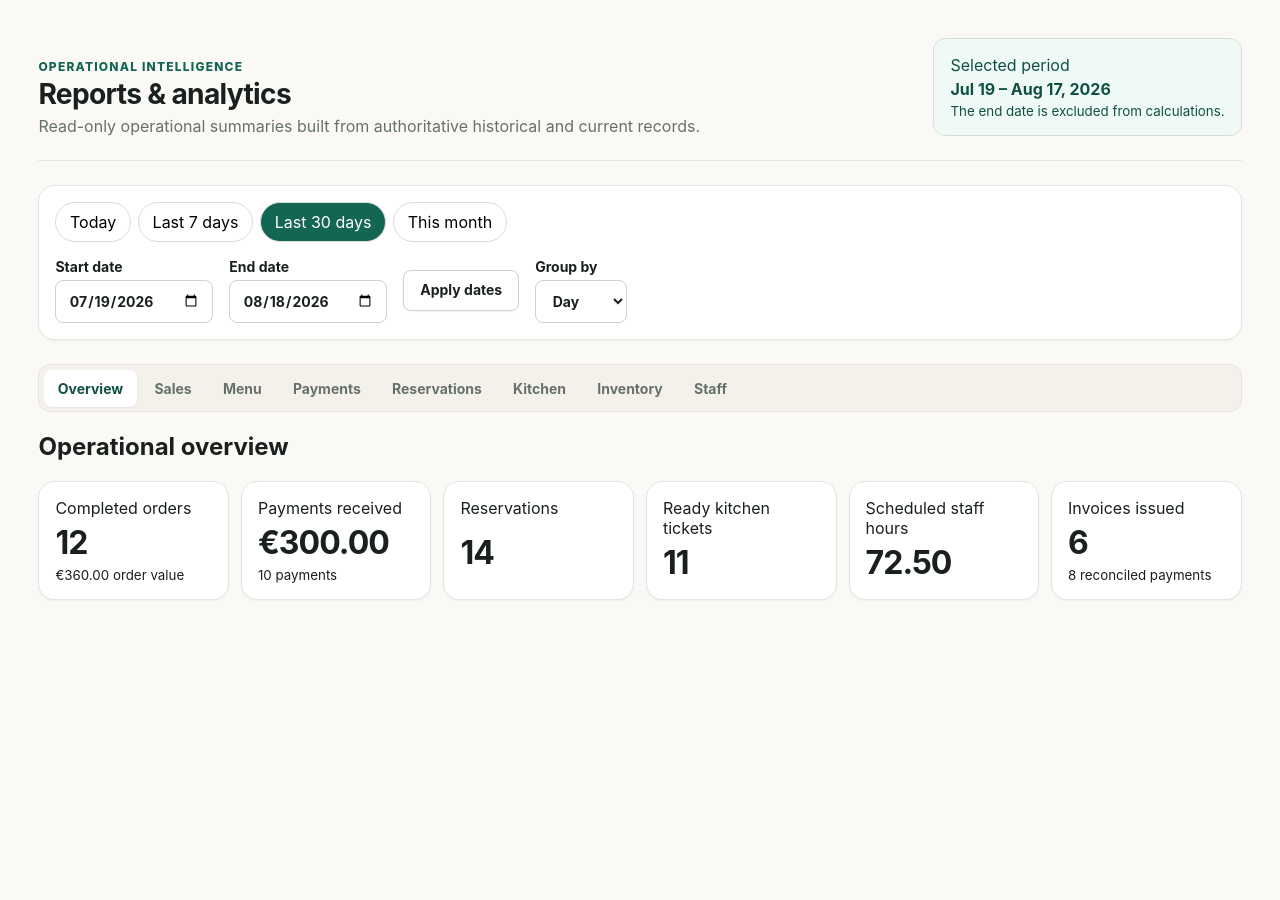
reports page › announces export failures and does not show false success
Click the tab "Sales". click: (173, 388)
box: [141, 370, 205, 407]
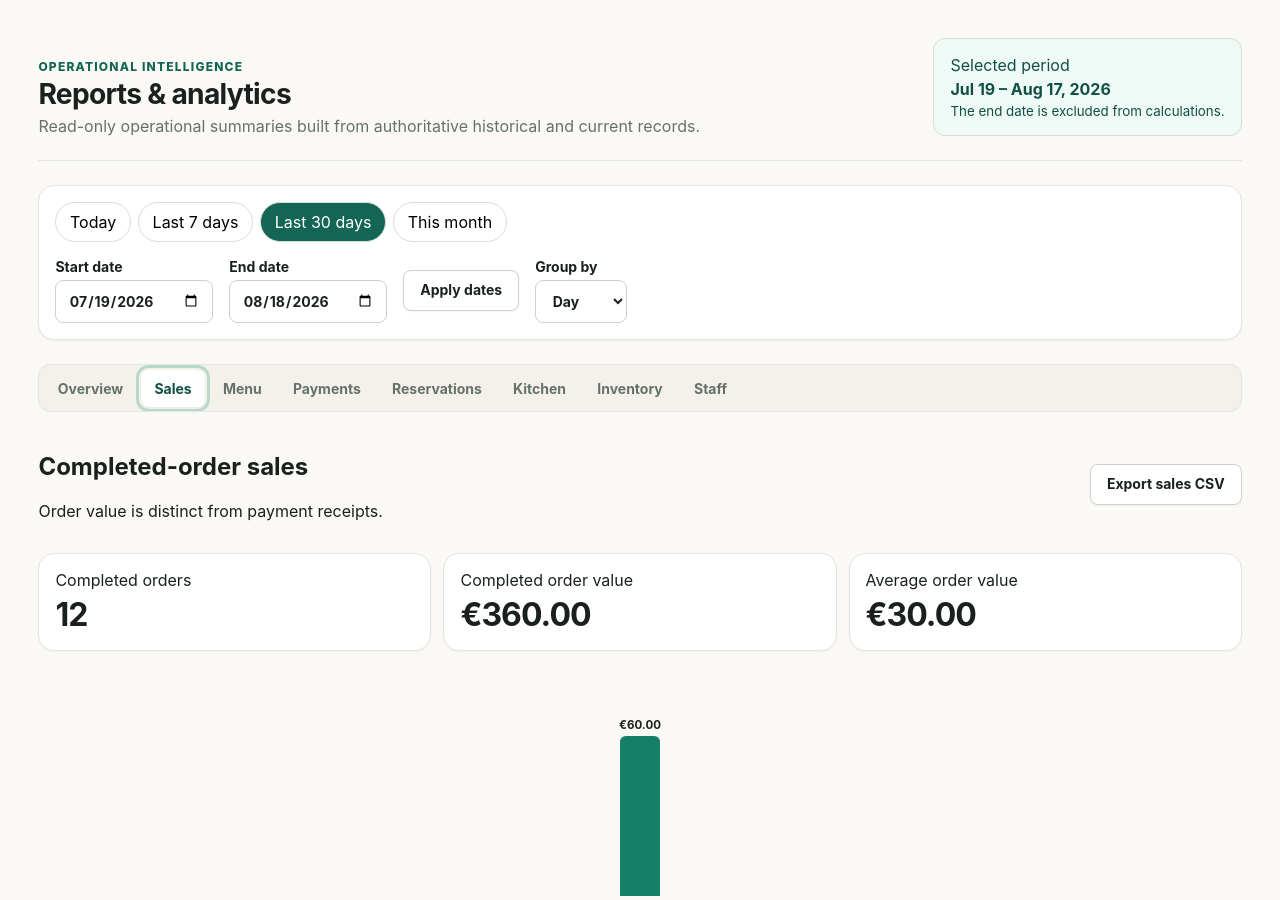
Expected: the heading "Completed-order sales" is shown, [38, 452, 308, 481]
Click the button "Export sales CSV". click: (1166, 485)
box: [1090, 464, 1242, 505]
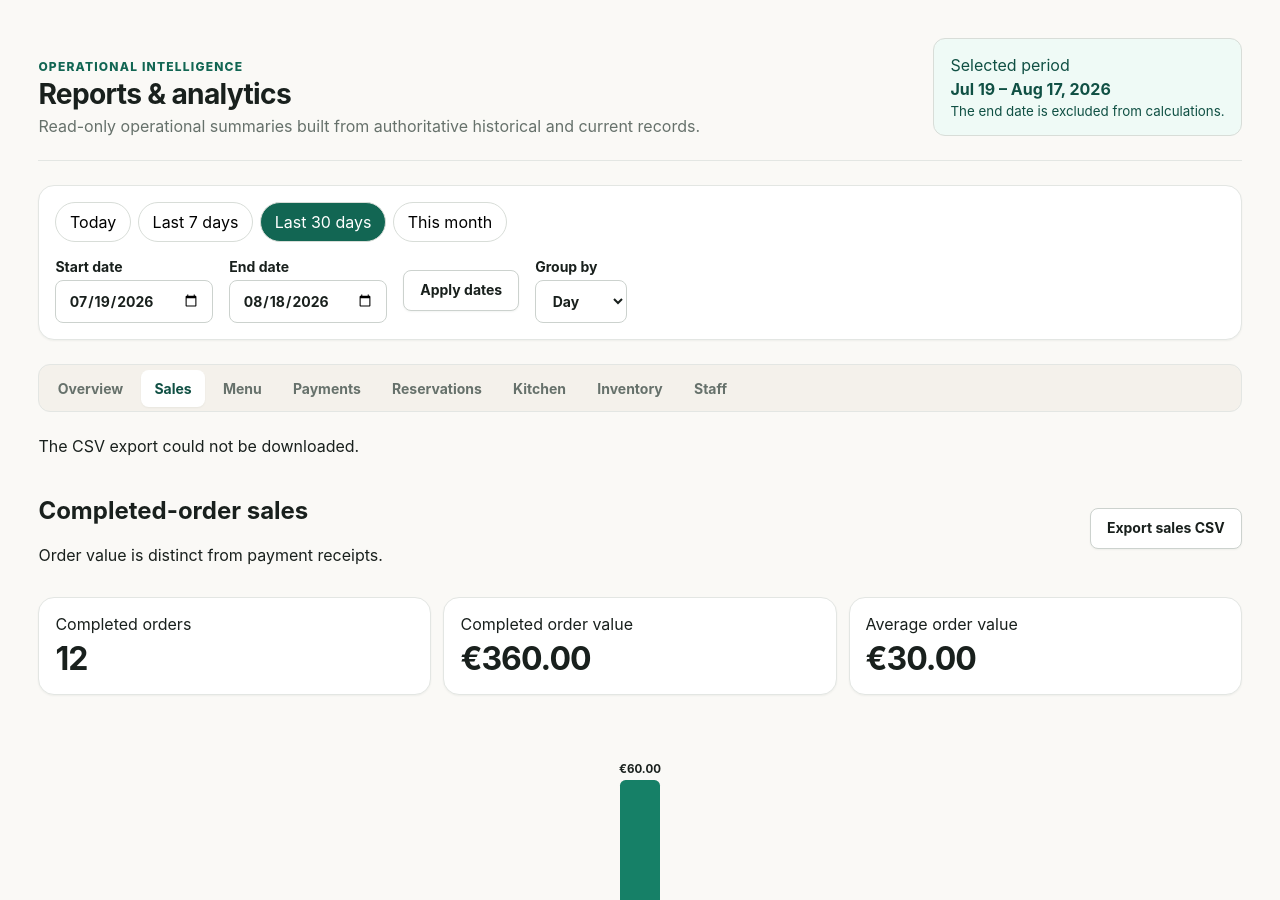
Expected: the message shows "could not be downloaded", [38, 436, 359, 456]
